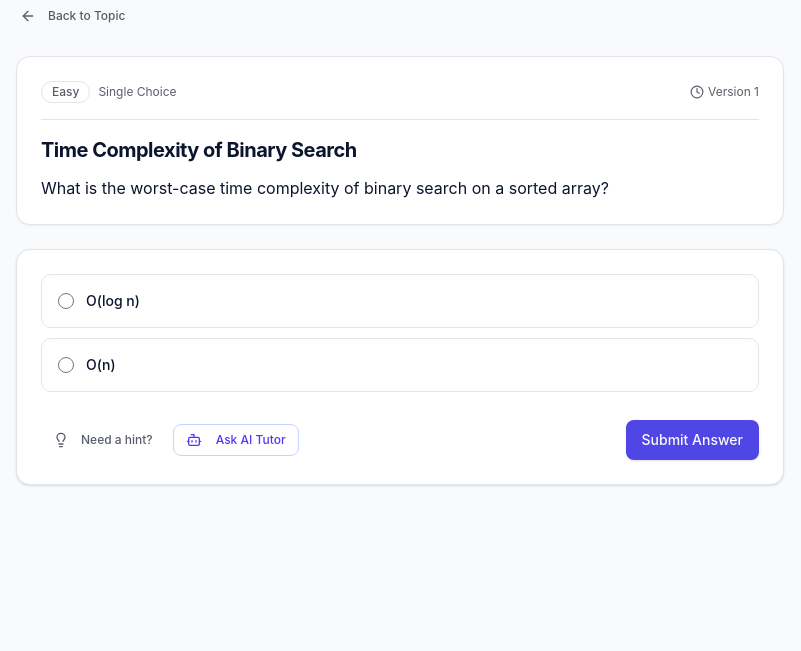
Test: Phase 2 Practice Interface Component › renders question without exposing correct answer before submission, then handles submission
This screenshot has width=801, height=651.
Expected: the heading "Time Complexity of Binary Search" is shown, 41,138 -> 357,162
Expected: the text "O(log n)" is shown, 86,291 -> 140,311
// Student selects option A and submits
Step 1. Click the radio button labelled "O(log n)" → (66, 301), box 58,293 -> 74,309
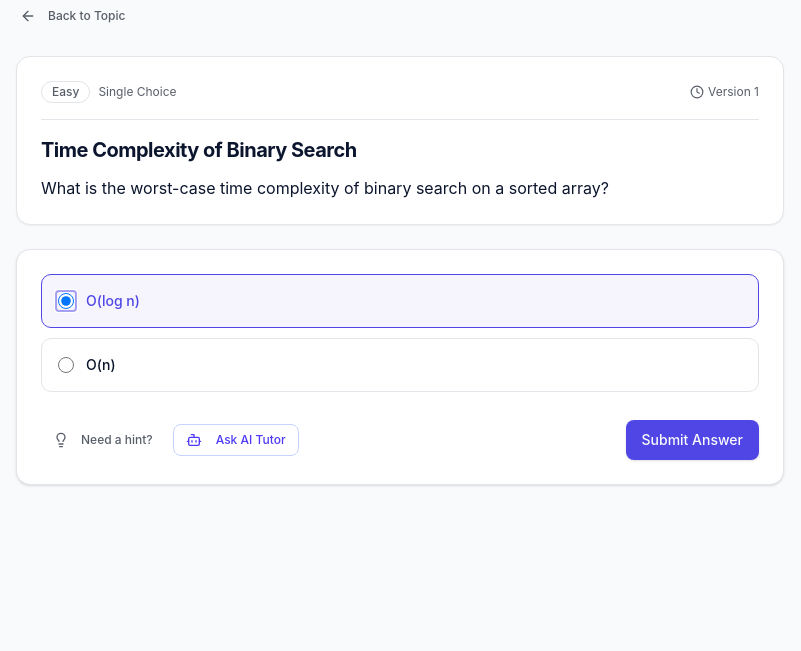
Step 2. Click the button "Submit Answer" → (692, 440), box 626,420 -> 759,460
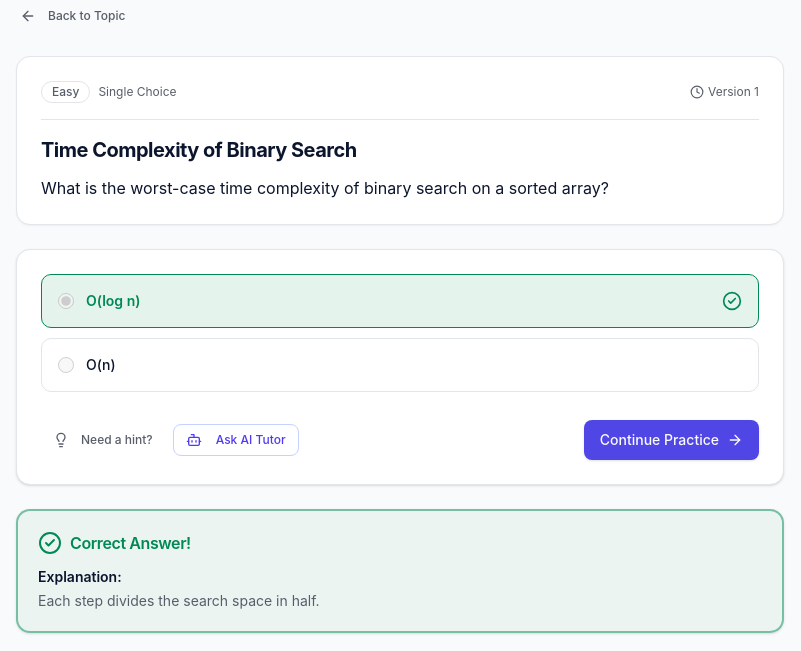
Result: the heading "Correct Answer!" is shown at 70,533 -> 191,553
Result: the text "Each step divides the search space in half." is shown at 38,592 -> 320,609
